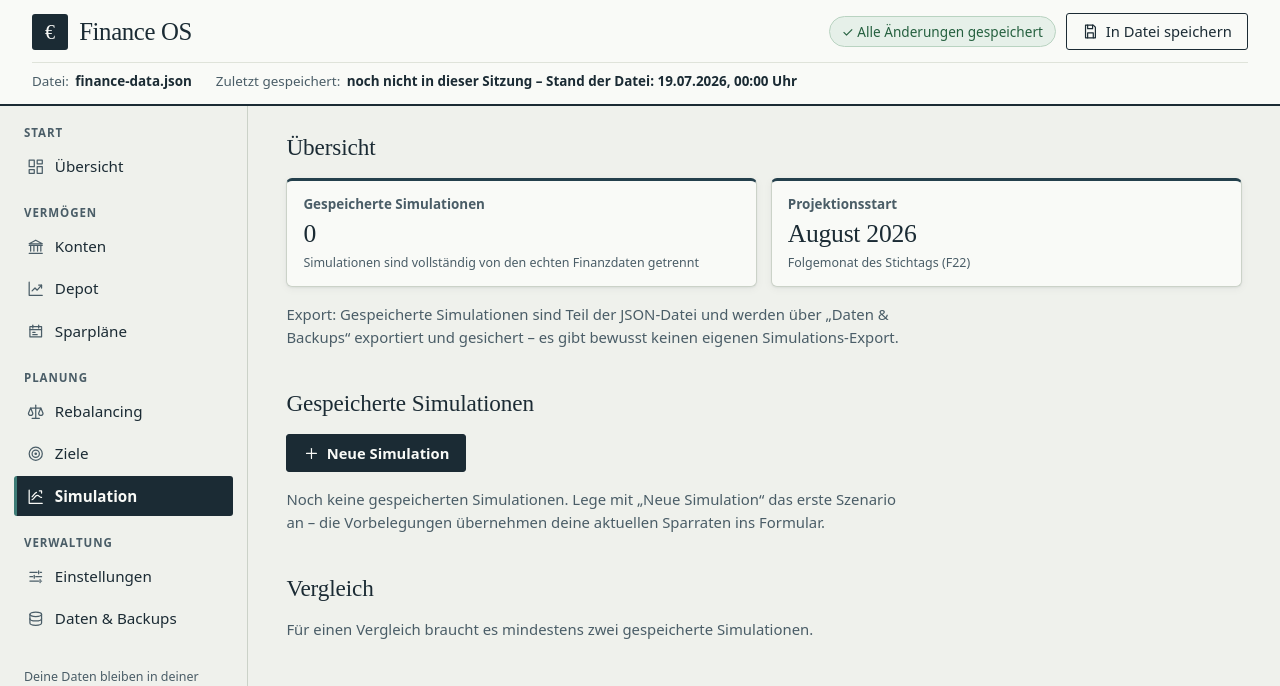
Scenario: SimulatorPage – Anlegen mit Vorbelegungen (Auflage 2.4, G8/G9) › „Aktuelle Werte übernehmen“ befüllt NUR das Formular mit den Seed-Werten
(page scrolled)
Click the button "Neue Simulation". click: point(376, 453)
box: [286,434,466,472]
(page scrolled)
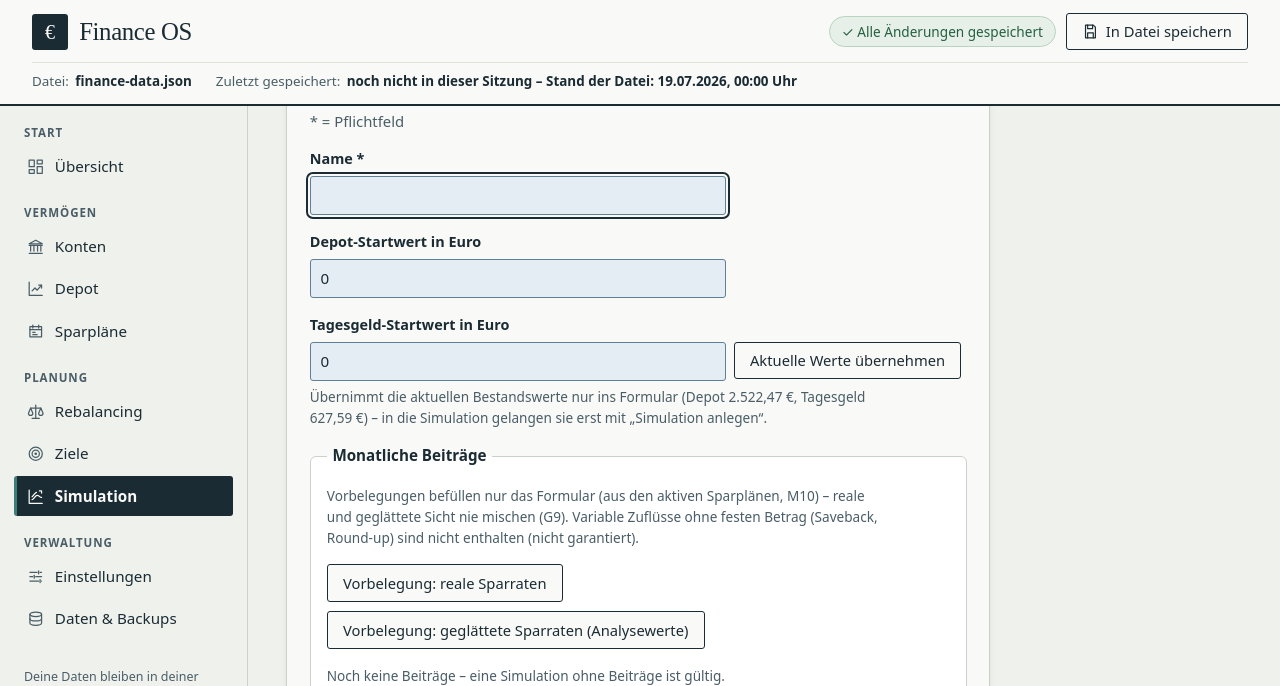
Click the button "Aktuelle Werte übernehmen". click: point(848, 360)
box: [734,342,961,379]
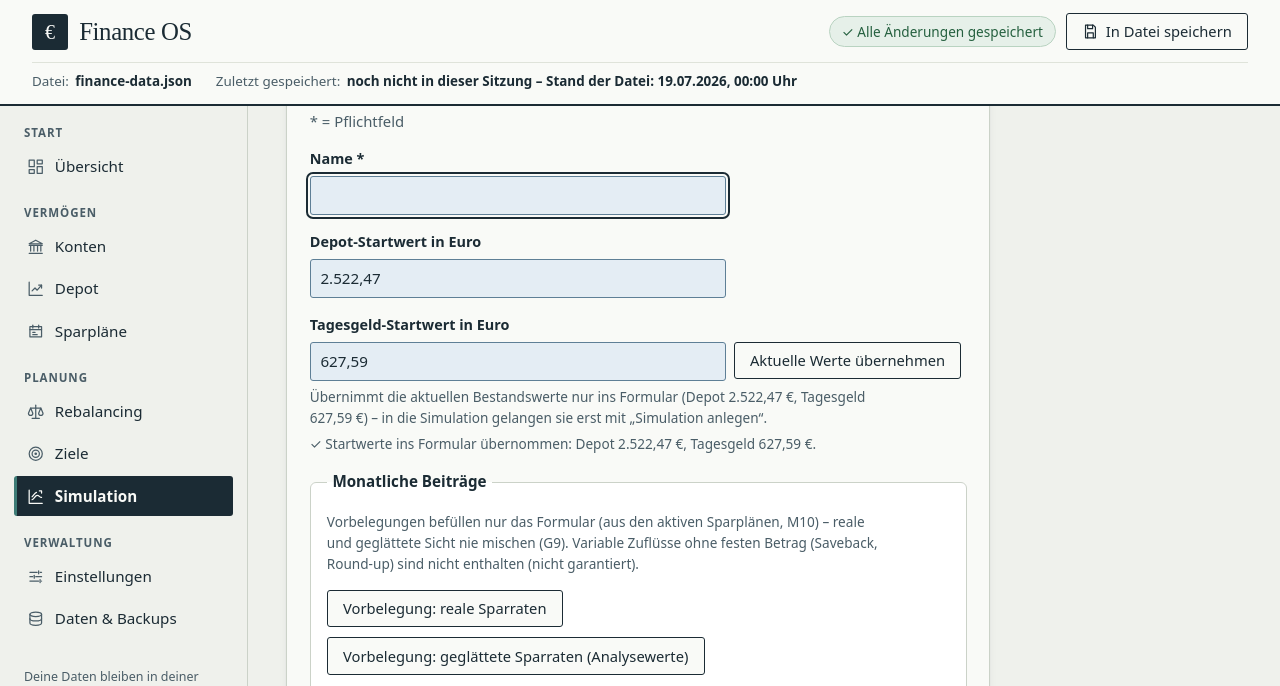
Expected: the field labelled "Depot-Startwert in Euro" holds "2.522,47", [310,258,726,298]
Expected: the field labelled "Tagesgeld-Startwert in Euro" holds "627,59", [310,342,726,382]
Expected: the text "✓ Startwerte ins Formular übernommen: Depot 2.522,47 €, Tagesgeld 627,59 €." is shown, [310,433,870,454]
